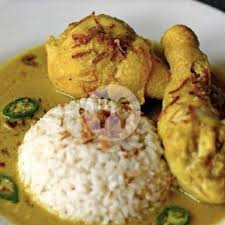Nasi putih: (17, 98, 170, 222)
Opor ayam: (157, 24, 225, 204), (47, 14, 168, 100)
